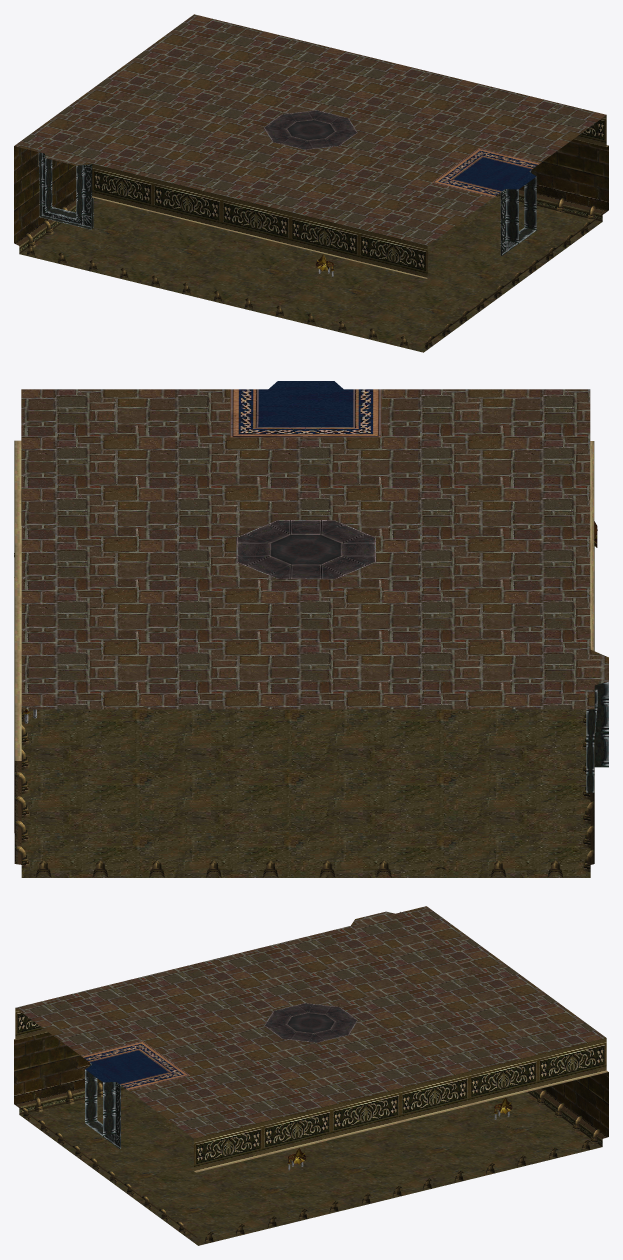
3 views of the same model, one above another, from view 1: azimuth 30°, elevation 25°; view 2: azimuth 150°, elevation 25°; view 3: azimuth 270°, elevation 25° (orthographic). The views are drawn at different scales.
Visible parts, largest first — view 1: node-0356FA4C, node-0014831D, node-023B2B03, node-00B89C08, node-02EA2139, node-02695EBE, node-027D7C4E, node-020ECCB4; view 2: node-0356FA4C, node-0014831D, node-027D7C4E, node-020ECCB4, node-02695EBE, node-023B2B03, node-02EA2139; view 3: node-0356FA4C, node-0014831D, node-023B2B03, node-00B89C08, node-02695EBE, node-027D7C4E, node-020ECCB4, node-02EA2139, node-01B454B3.
Boxes of the visible parts, box(x1,y1,x2,y2) form: node-0356FA4C: box(14, 14, 606, 245); node-0014831D: box(20, 197, 602, 352); node-023B2B03: box(91, 115, 608, 278); node-00B89C08: box(14, 139, 608, 242); node-02EA2139: box(38, 152, 536, 255); node-02695EBE: box(14, 188, 608, 349); node-027D7C4E: box(432, 148, 540, 197); node-020ECCB4: box(263, 110, 357, 149); node-0356FA4C: box(21, 389, 608, 709); node-0014831D: box(21, 709, 590, 877); node-027D7C4E: box(230, 381, 381, 437); node-020ECCB4: box(236, 520, 376, 579); node-02695EBE: box(14, 553, 594, 877); node-023B2B03: box(14, 440, 594, 760); node-02EA2139: box(586, 681, 608, 792); node-0356FA4C: box(15, 906, 605, 1138); node-0014831D: box(20, 1089, 601, 1245); node-023B2B03: box(14, 1008, 608, 1172); node-00B89C08: box(14, 1032, 608, 1136); node-02695EBE: box(14, 1081, 608, 1242); node-027D7C4E: box(81, 1041, 189, 1090); node-020ECCB4: box(264, 1003, 357, 1042); node-02EA2139: box(85, 912, 400, 1148); node-01B454B3: box(287, 1097, 512, 1170).
Size of the model in its own units: 366 by 78.74 by 393.
9 materials, 9 textured.
